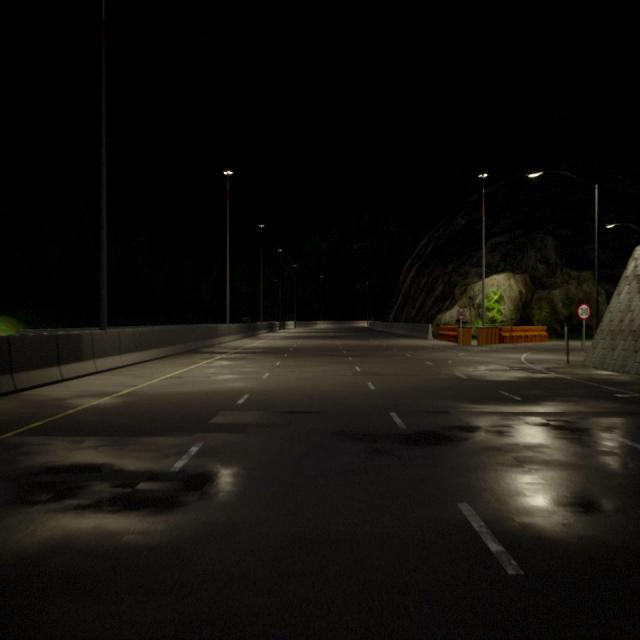Traffic_Signs: (577, 302, 591, 320), (458, 308, 464, 320)
